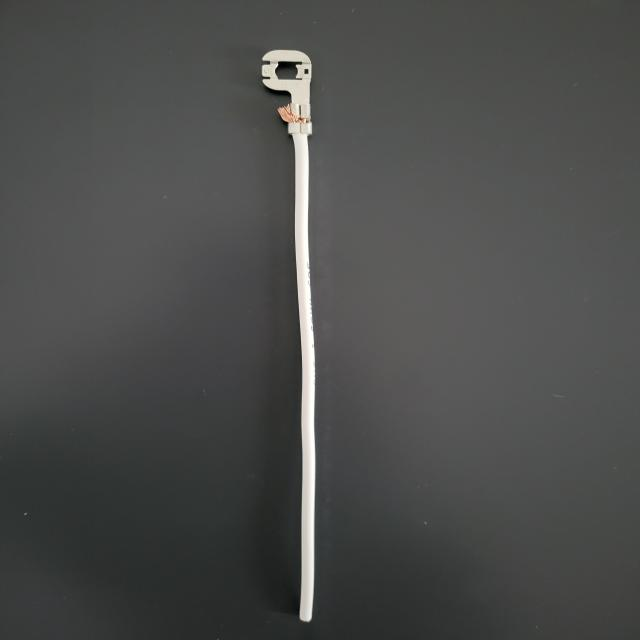defect: (250, 97, 325, 147)
